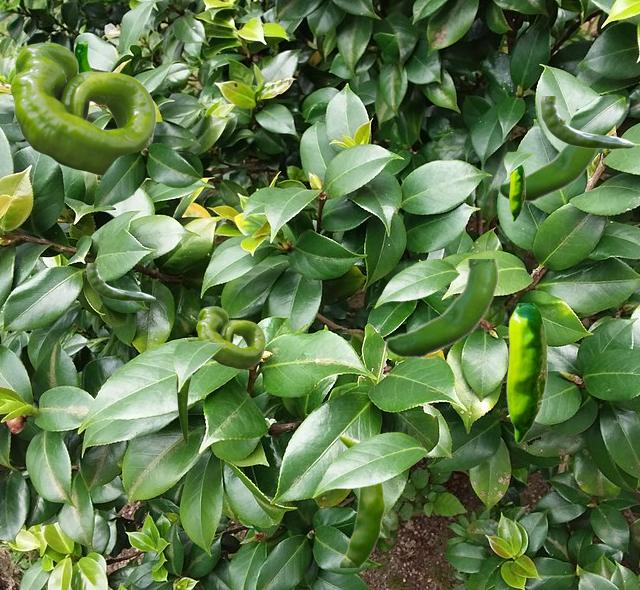green_chili: (10, 42, 155, 175), (384, 259, 497, 358), (497, 109, 600, 202), (337, 433, 385, 566), (506, 303, 546, 442), (540, 96, 634, 148), (196, 306, 264, 368), (86, 263, 154, 300), (176, 340, 192, 444), (509, 164, 524, 220), (74, 41, 92, 71)
